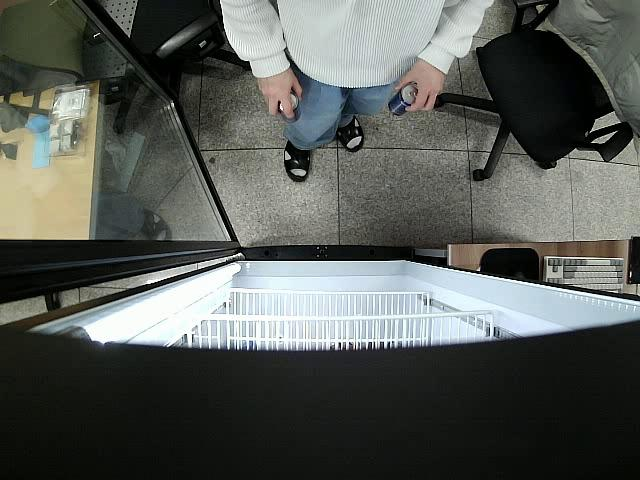00_hand: (393, 58, 445, 113), (256, 67, 303, 119)
16_hot6: (387, 83, 419, 118), (277, 91, 301, 124)
